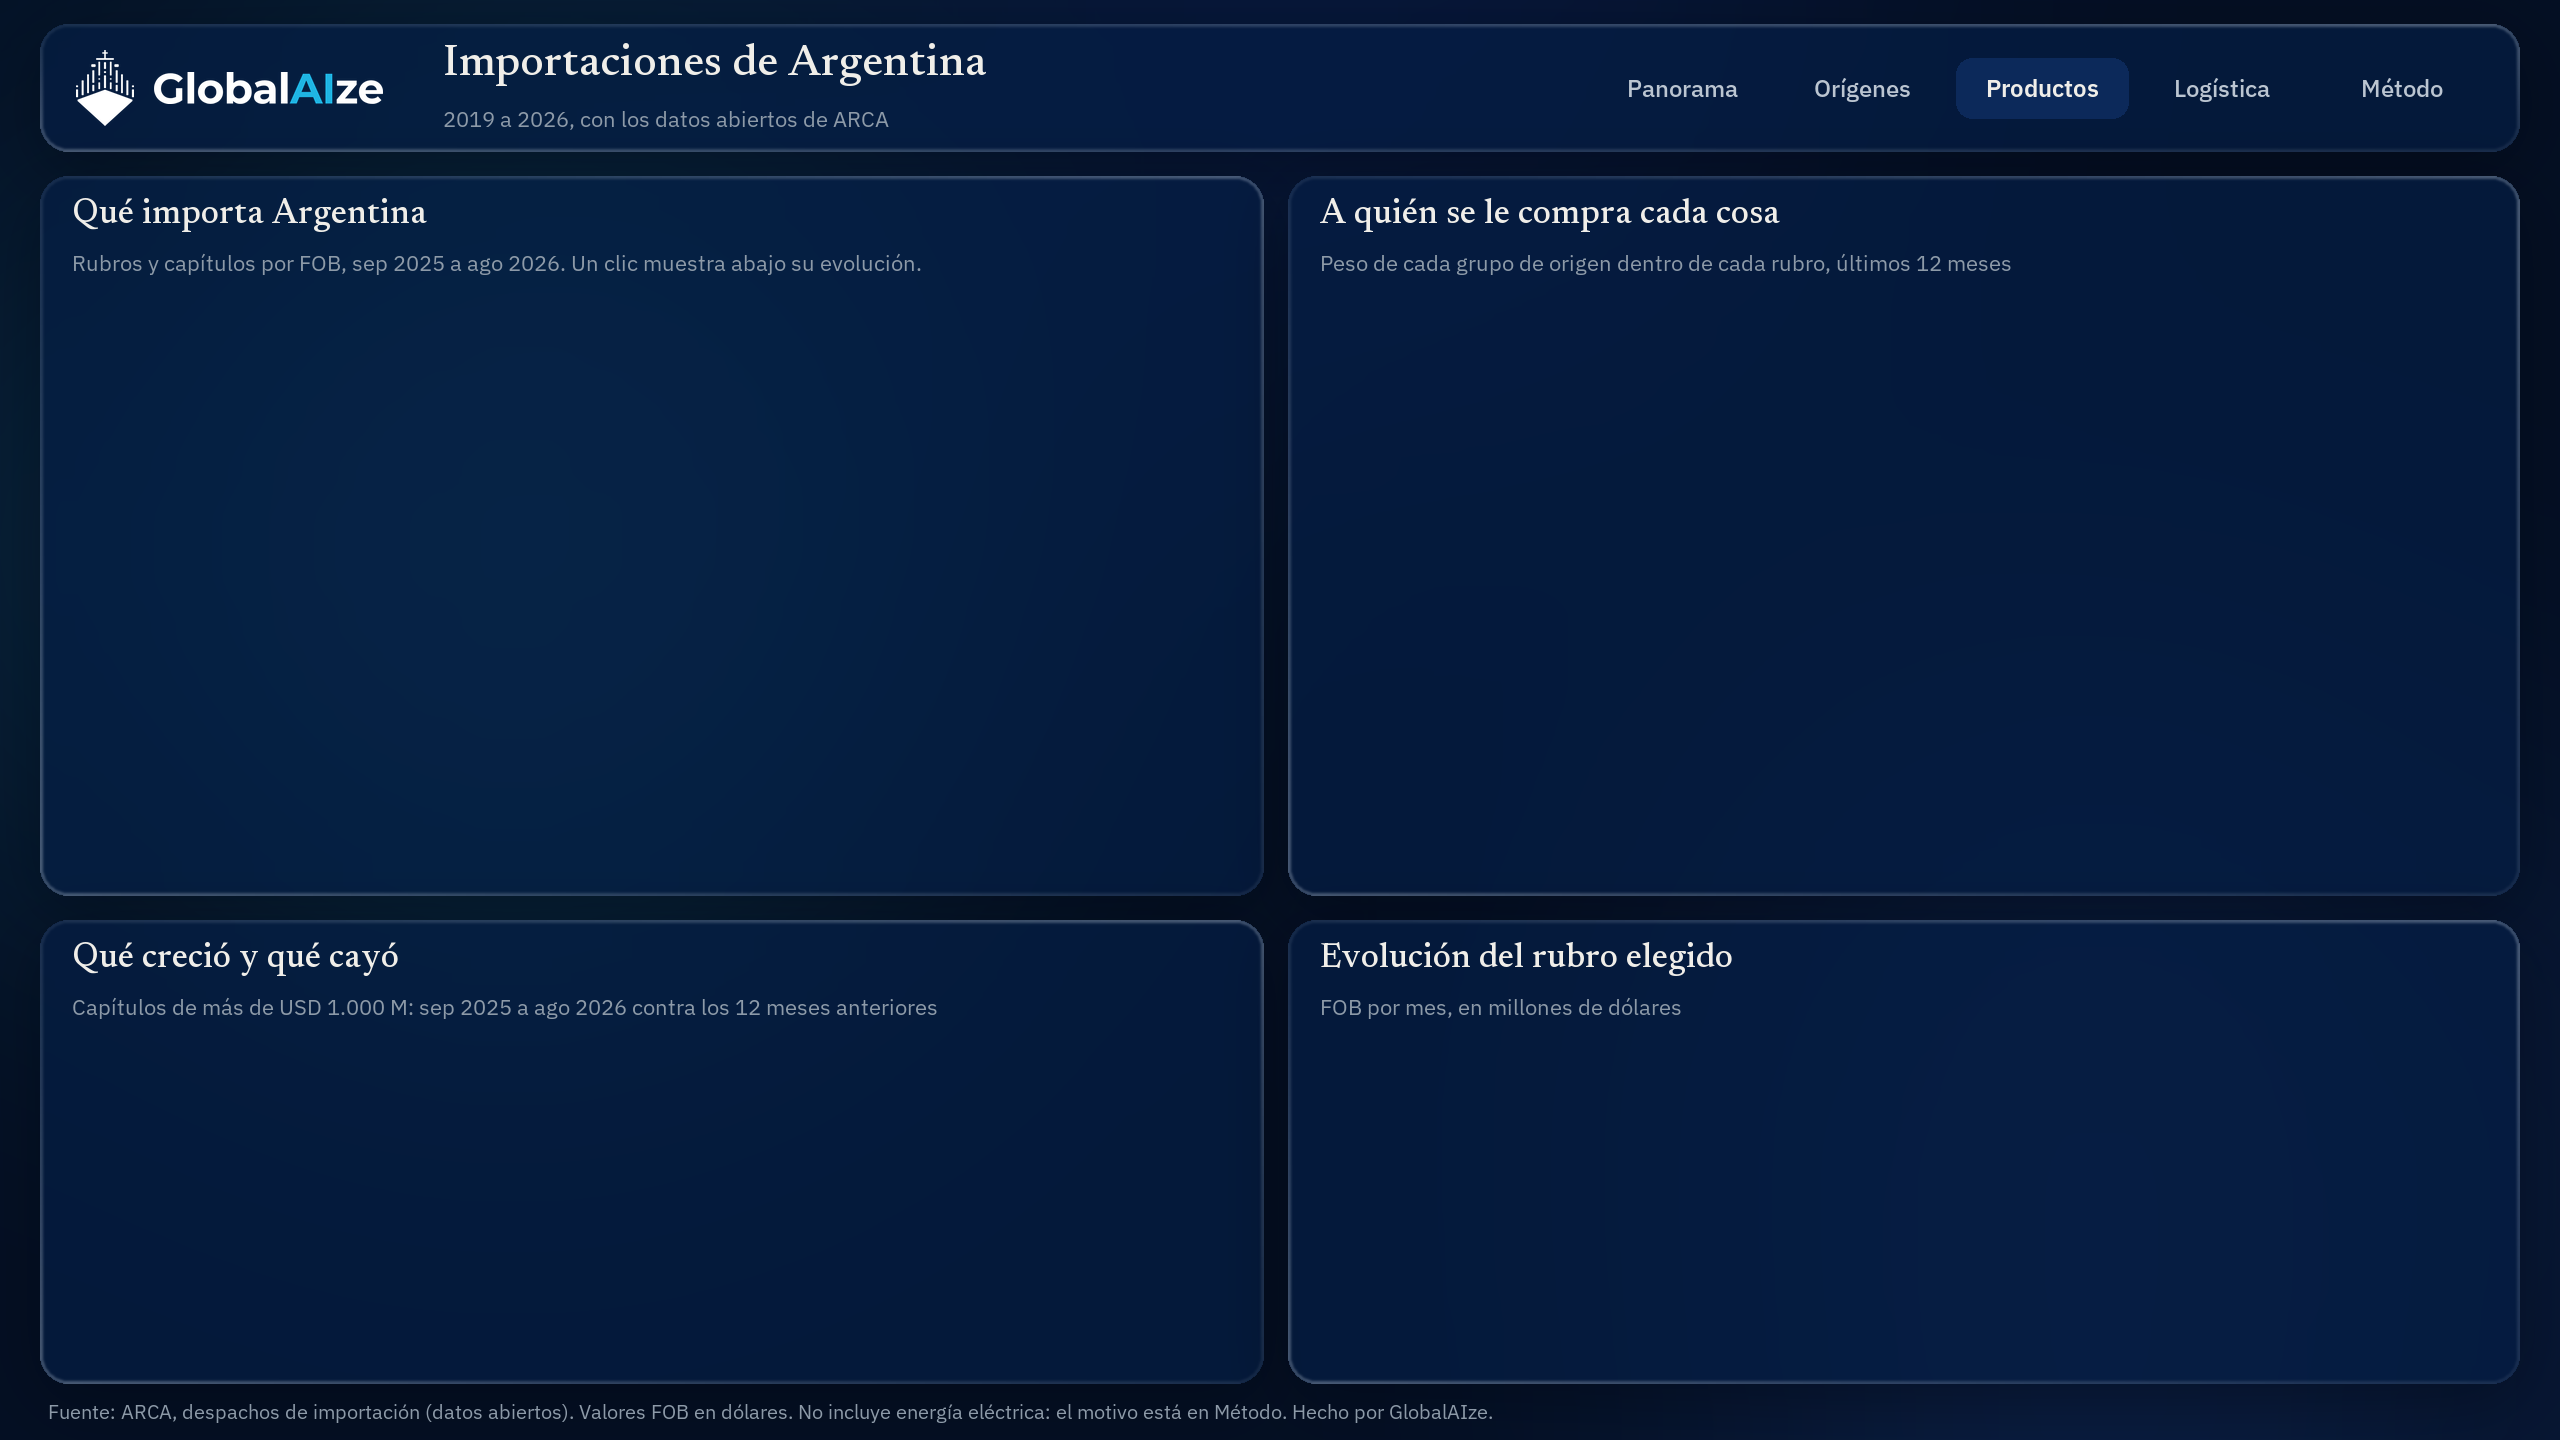

This screenshot's page, from the dashboard's own definition file:
{"tool":"tableau","page":{"name":"Productos","canvas":[1280,720],"ordinal":2},"visuals":[{"type":"image","param":"fondos/productos.png","box":[0,0,1280,720]},{"type":"dashboard-object","box":[798,29,86,30]},{"type":"dashboard-object","box":[888,29,86,30]},{"type":"dashboard-object","box":[1068,29,86,30]},{"type":"dashboard-object","box":[1158,29,86,30]},{"type":"worksheet","title":"Mapa de productos","mark":"Square","box":[32,144,588,294]},{"type":"worksheet","title":"Rubro por origen","mark":"Square","rows":["Rubro"],"cols":["Grupo de origen"],"box":[656,144,592,294]},{"type":"worksheet","title":"Rubro elegido","mark":"Text","box":[1024,469,220,26]},{"type":"worksheet","title":"Subas y bajas","mark":"Bar","rows":["Capítulo"],"cols":["c_var"],"box":[32,516,588,166]},{"type":"worksheet","title":"Evolución del rubro","mark":"Area","rows":["c_fob_m"],"cols":["Fecha"],"box":[656,516,592,166]}]}

Visuals, with their boxes in screenshot pixels (x1, y1, x2, y2), scaled from the page's 1280x720 canvas onto the 2560x1440 screenshot:
image: Rect(0, 0, 2559, 1439)
dashboard-object: Rect(1596, 58, 1768, 118)
dashboard-object: Rect(1776, 58, 1948, 118)
dashboard-object: Rect(2136, 58, 2308, 118)
dashboard-object: Rect(2316, 58, 2488, 118)
"Mapa de productos" worksheet (Square marks): Rect(64, 288, 1240, 876)
"Rubro por origen" worksheet (Square marks): Rect(1312, 288, 2496, 876)
"Rubro elegido" worksheet (Text marks): Rect(2048, 938, 2488, 990)
"Subas y bajas" worksheet (Bar marks): Rect(64, 1032, 1240, 1364)
"Evolución del rubro" worksheet (Area marks): Rect(1312, 1032, 2496, 1364)
